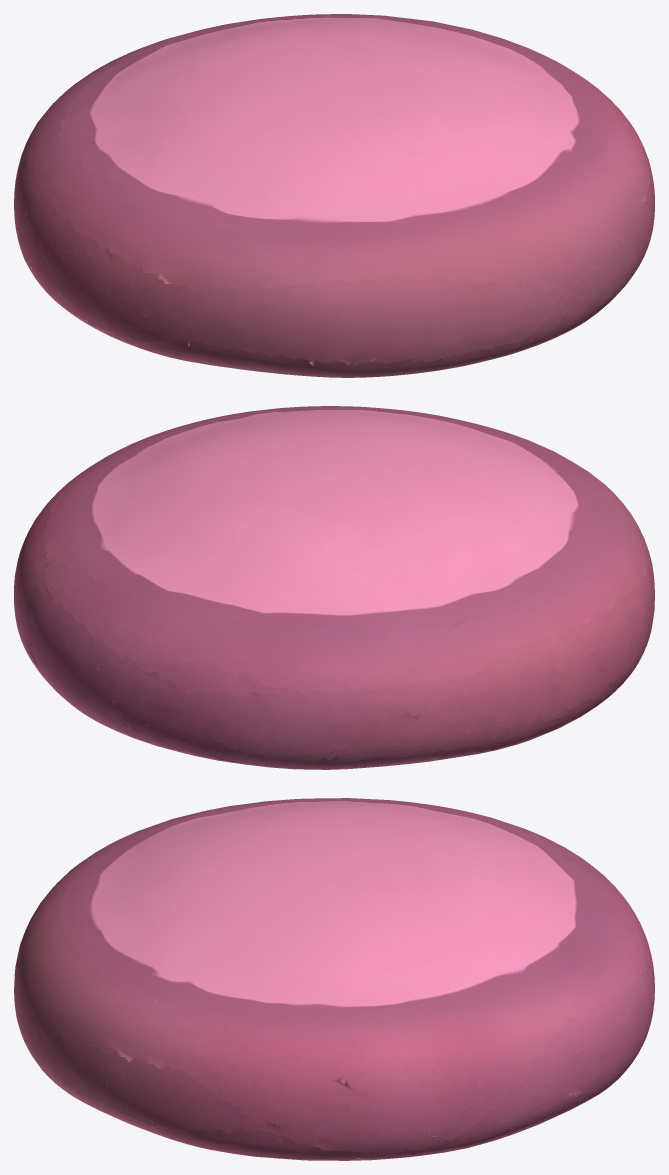
File: rose.glb
3 views of the same model, one above another, from view 1: azimuth 30°, elevation 25°; view 2: azimuth 150°, elevation 25°; view 3: azimuth 270°, elevation 25° (orthographic).
Bounding box in the file's own units: 0.27 × 0.0828 × 0.2701.
1 material, 1 textured.
